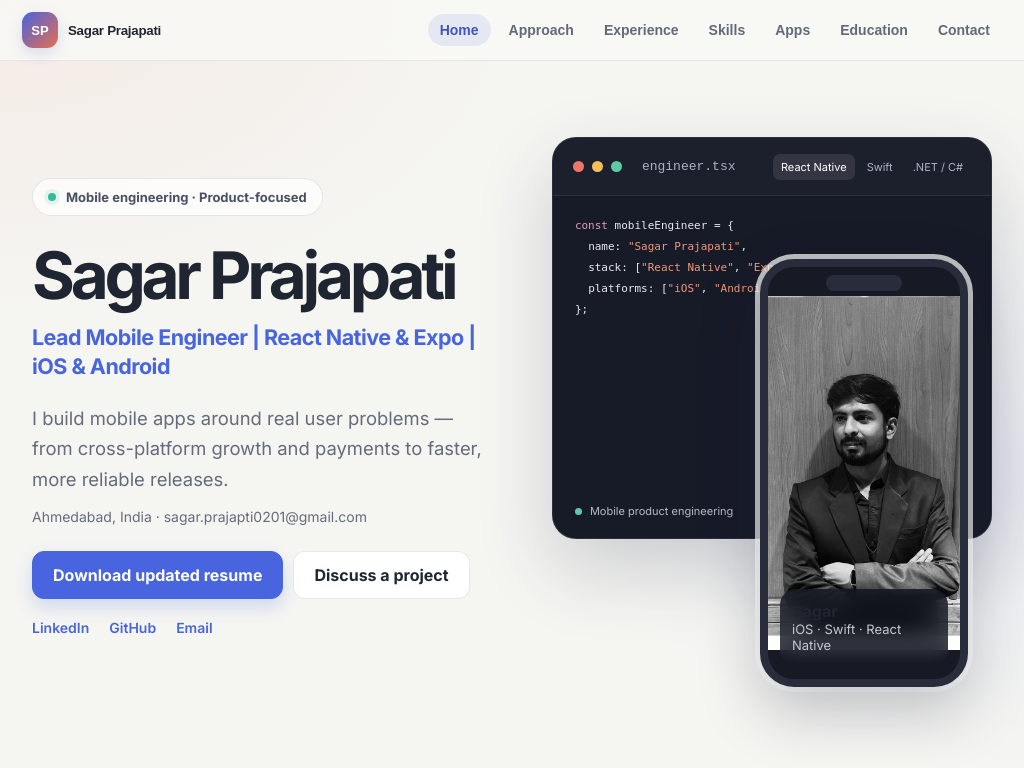
switches among React Native, Swift, and C# code samples
Check: the panel shows "React Native", box [641, 261, 734, 274]
Click the tab "Swift". click: (880, 166)
box: [859, 154, 901, 180]
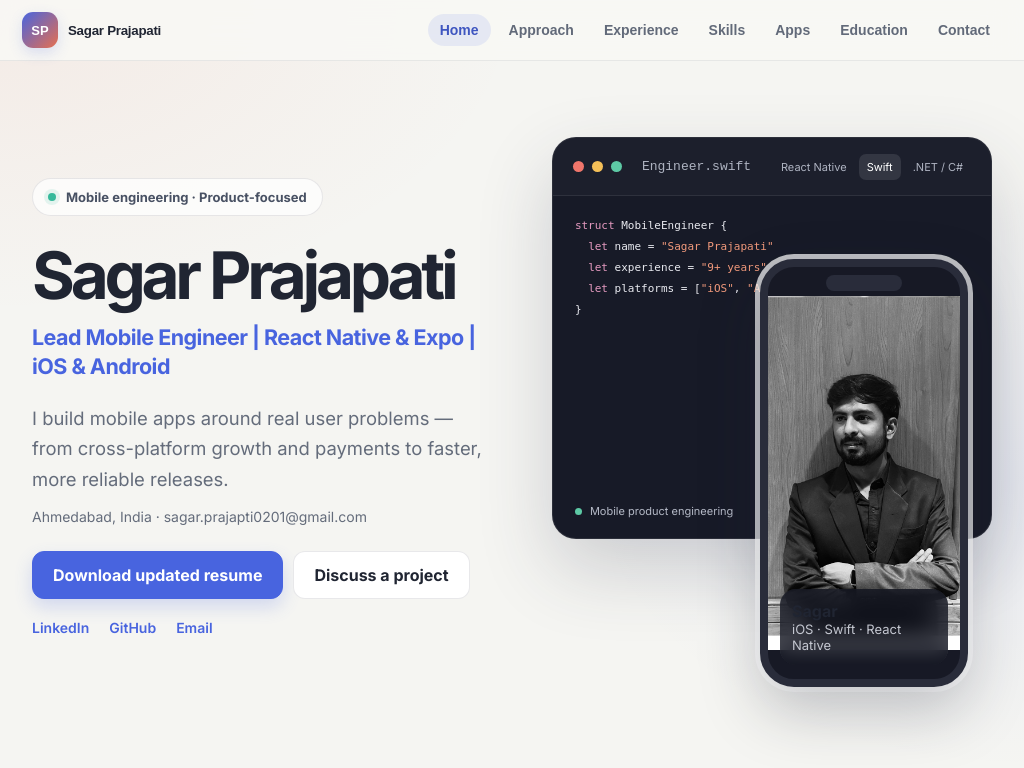
Check: the panel shows "struct MobileEngineer", box [575, 219, 813, 316]
Click the tab "React Native". click: (814, 166)
box: [773, 154, 855, 180]
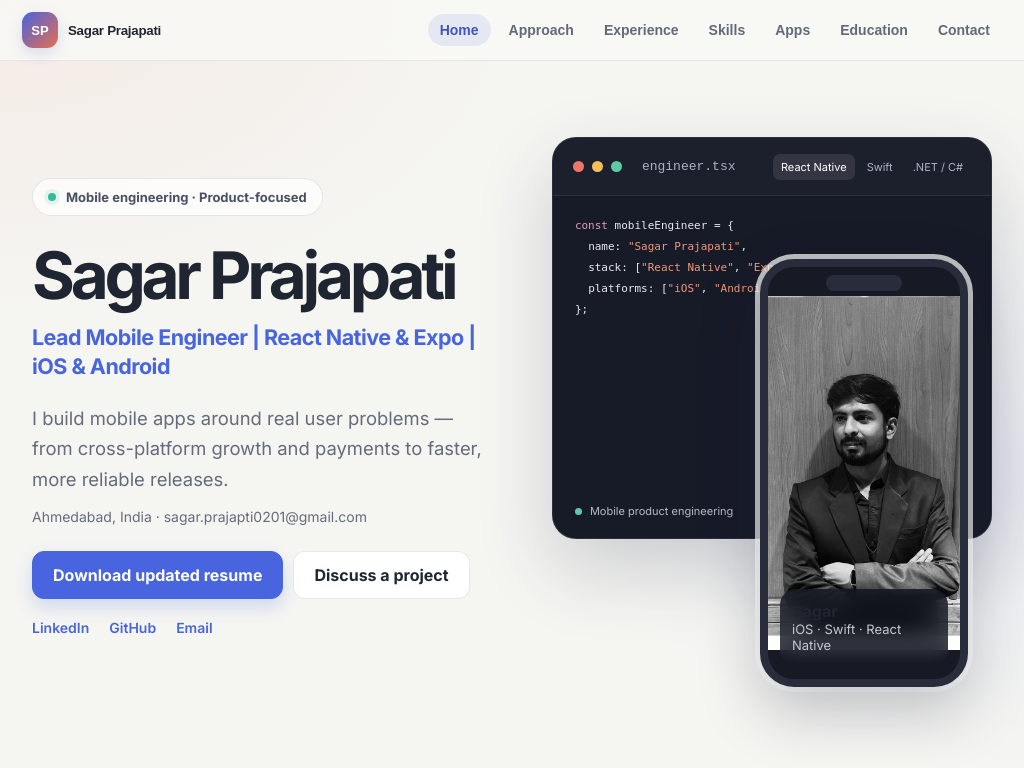
Check: the panel shows "React Native", box [641, 261, 734, 274]
Click the tab ".NET / C#". click: (938, 166)
box: [905, 154, 971, 180]
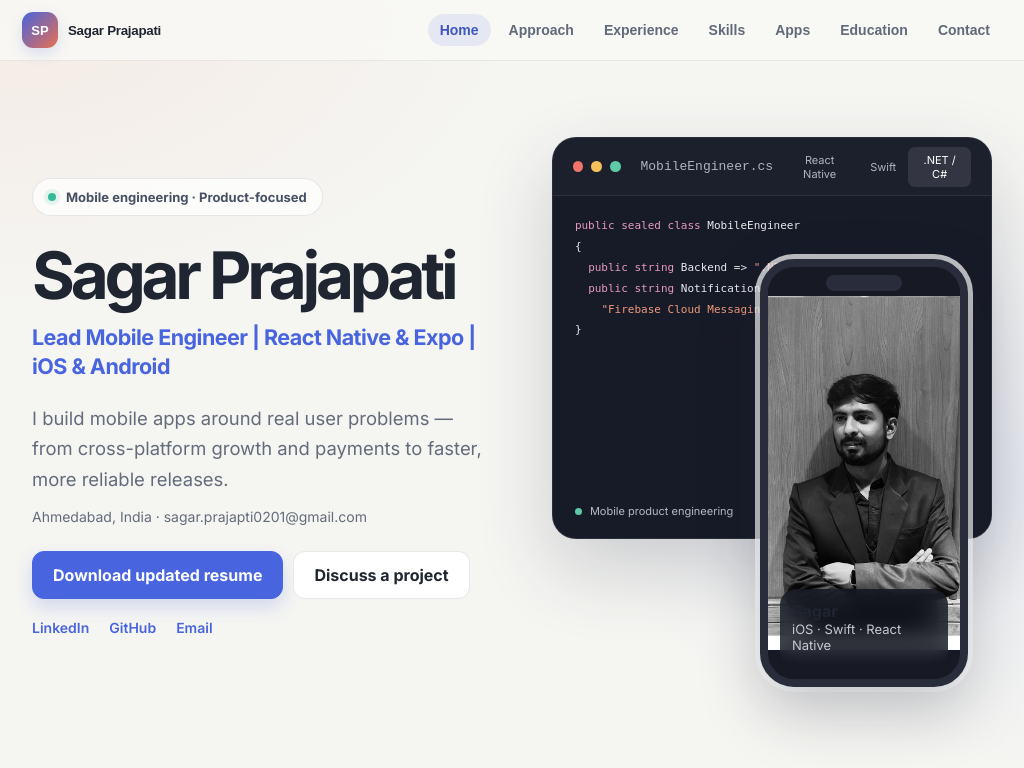
Check: the panel shows "Firebase Cloud Messaging", box [601, 303, 774, 316]
